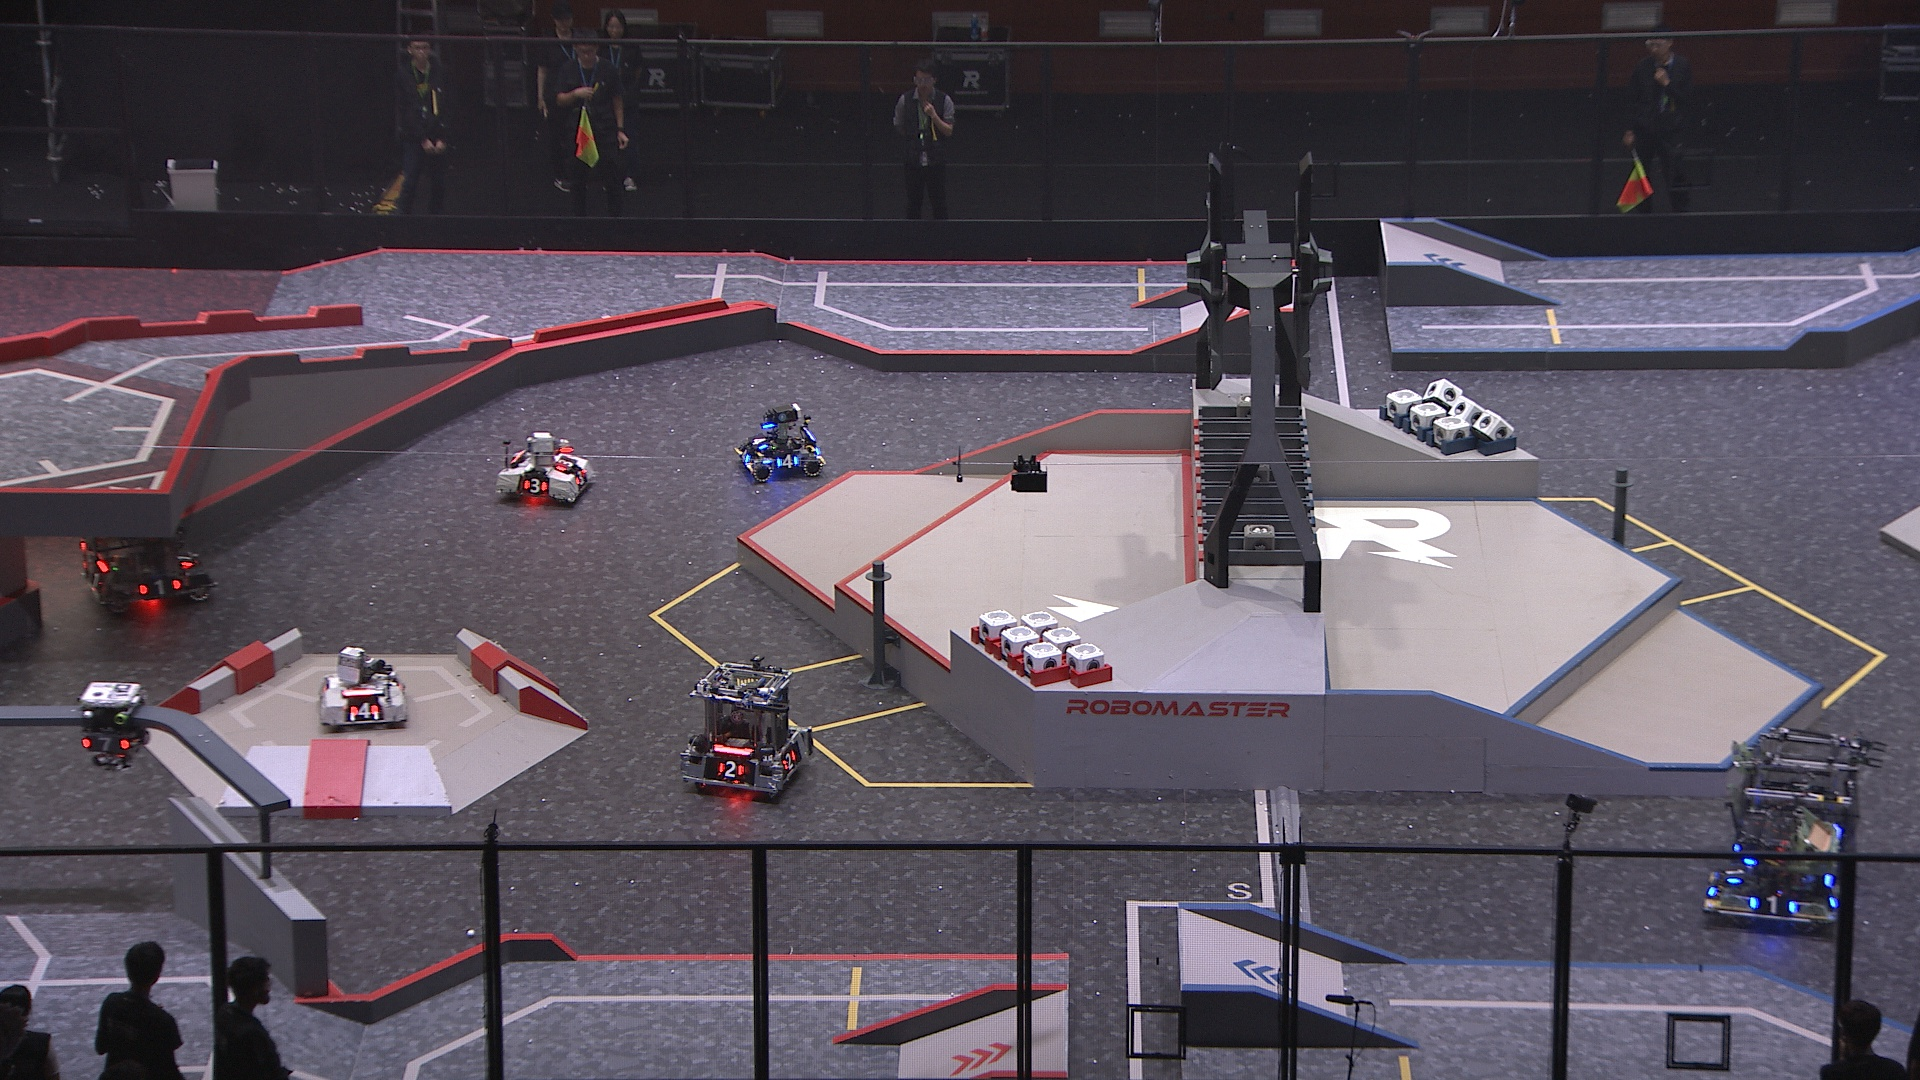armor: (1747, 889, 1803, 920), (78, 731, 135, 756), (135, 575, 182, 603), (345, 698, 382, 721), (1826, 882, 1851, 913), (169, 547, 196, 571), (717, 760, 746, 782), (520, 475, 551, 495), (1724, 861, 1746, 887), (83, 566, 105, 591), (775, 451, 803, 471), (555, 452, 579, 475), (571, 465, 593, 489), (779, 746, 800, 771), (746, 429, 767, 451), (740, 447, 752, 463)
car: (1702, 794, 1858, 932), (674, 654, 816, 803), (1735, 721, 1865, 874), (78, 485, 216, 609), (491, 429, 599, 509), (311, 645, 410, 731), (735, 400, 827, 480)
watcher: (74, 679, 153, 771)
